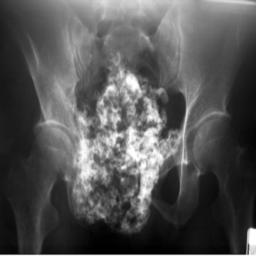cancer: (69, 70, 178, 233)
